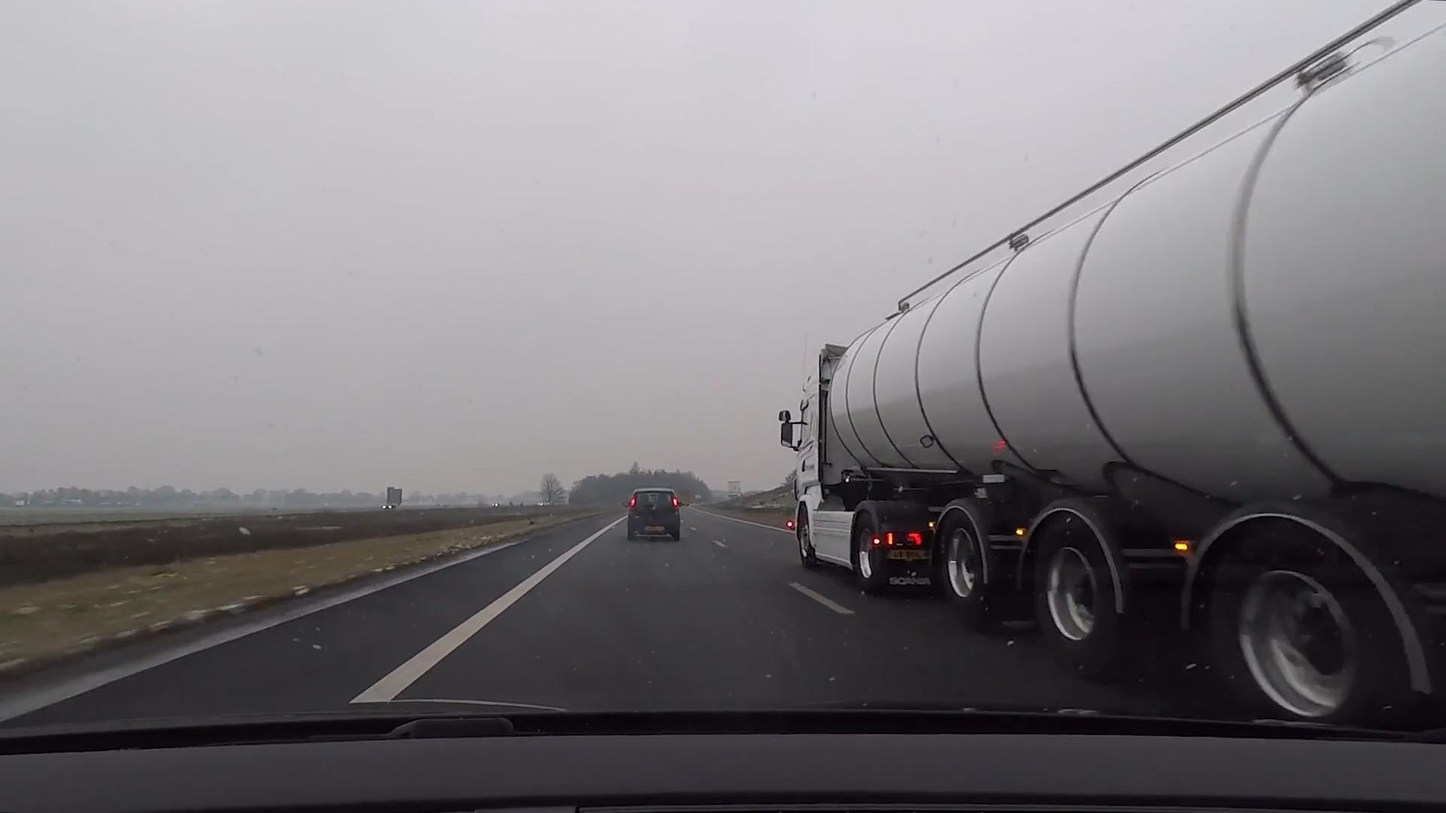dry: (0, 505, 1242, 726)
